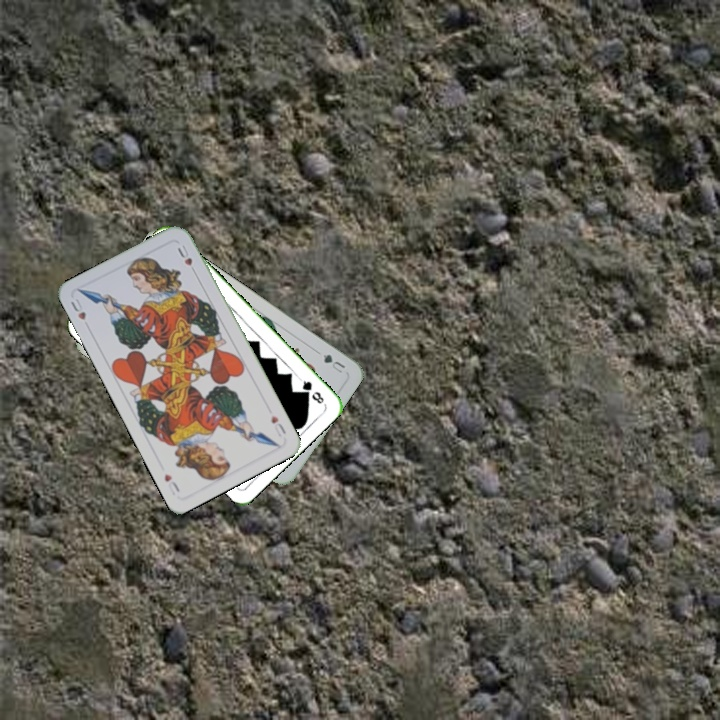G8: (298, 376, 326, 407)
GU: (313, 347, 348, 376)
HU: (267, 411, 289, 440), (67, 294, 89, 323)
